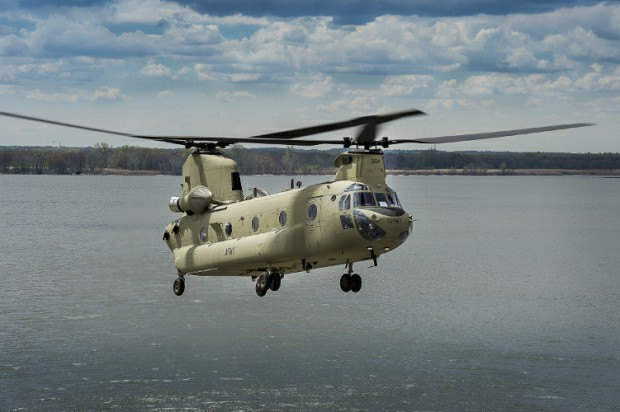chinook: (91, 113, 534, 297)
